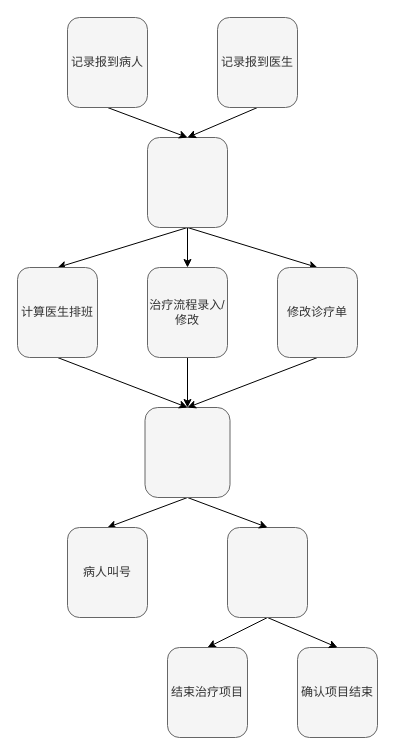
Image size: 395x755. Some labels were removed from this diagram. Each missing label, with the centre of its shape:
开启治疗流程: the point at 187,452
新增诊疗单: the point at 187,182
确认项目开始: the point at 267,572
